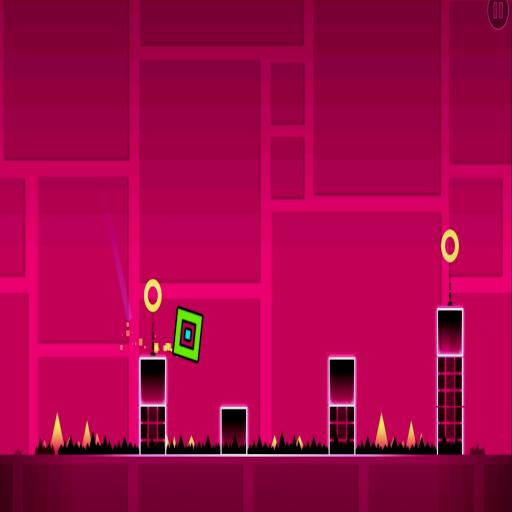block: (433, 304, 471, 456), (324, 353, 362, 450), (136, 350, 169, 454), (219, 404, 250, 456)
player: (172, 306, 202, 363)
spike: (51, 413, 64, 452), (81, 421, 91, 446), (407, 420, 416, 447), (271, 436, 277, 450), (297, 435, 303, 449), (166, 435, 169, 450), (96, 433, 100, 444), (173, 437, 175, 447)
